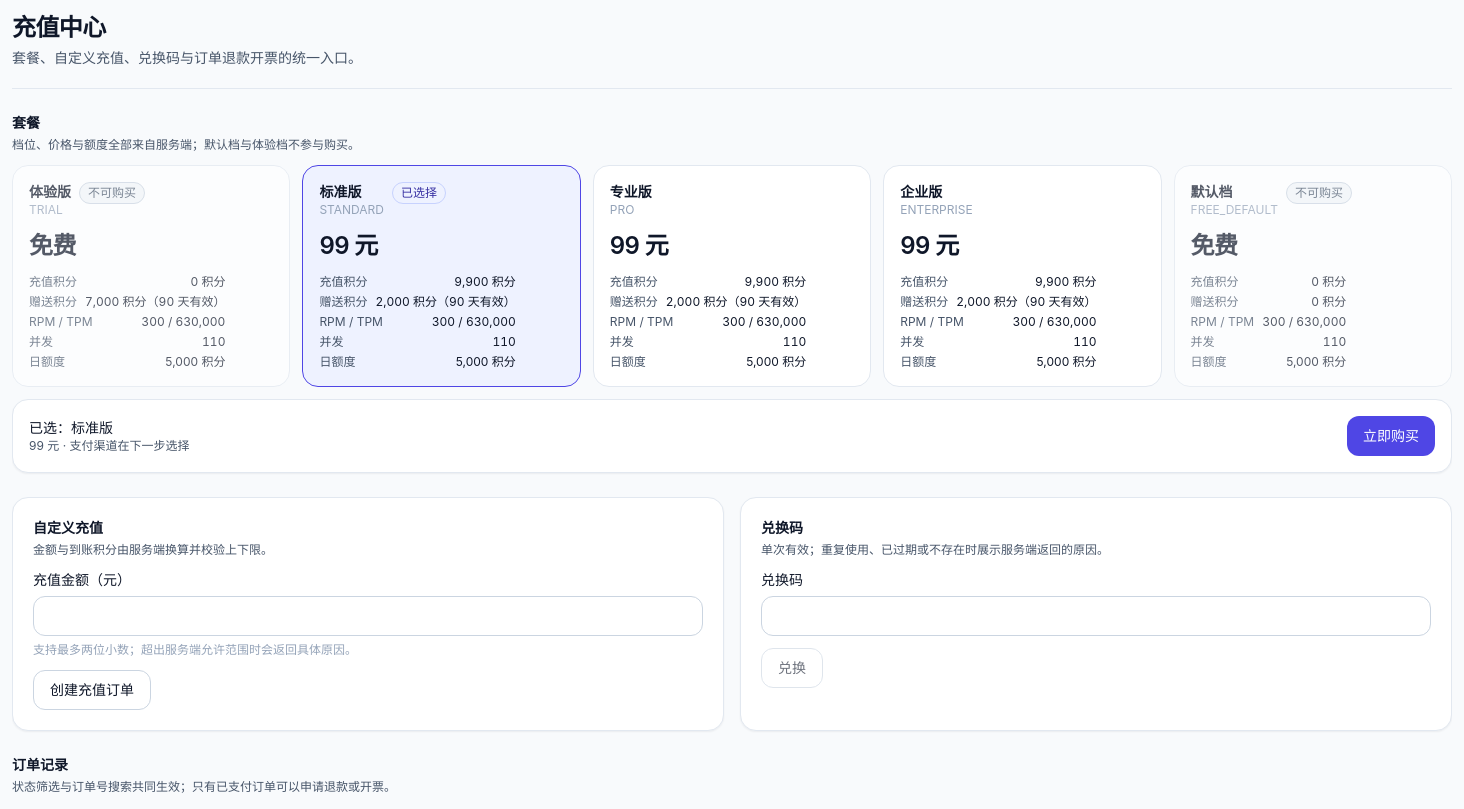
Scenario: RechargePage › F10-3: a re-used redemption code shows the backend reason and hint
Step 1. Type "ABC123XYZ" into the field labelled "兑换码" → point(1096, 616), box [761,596,1431,636]
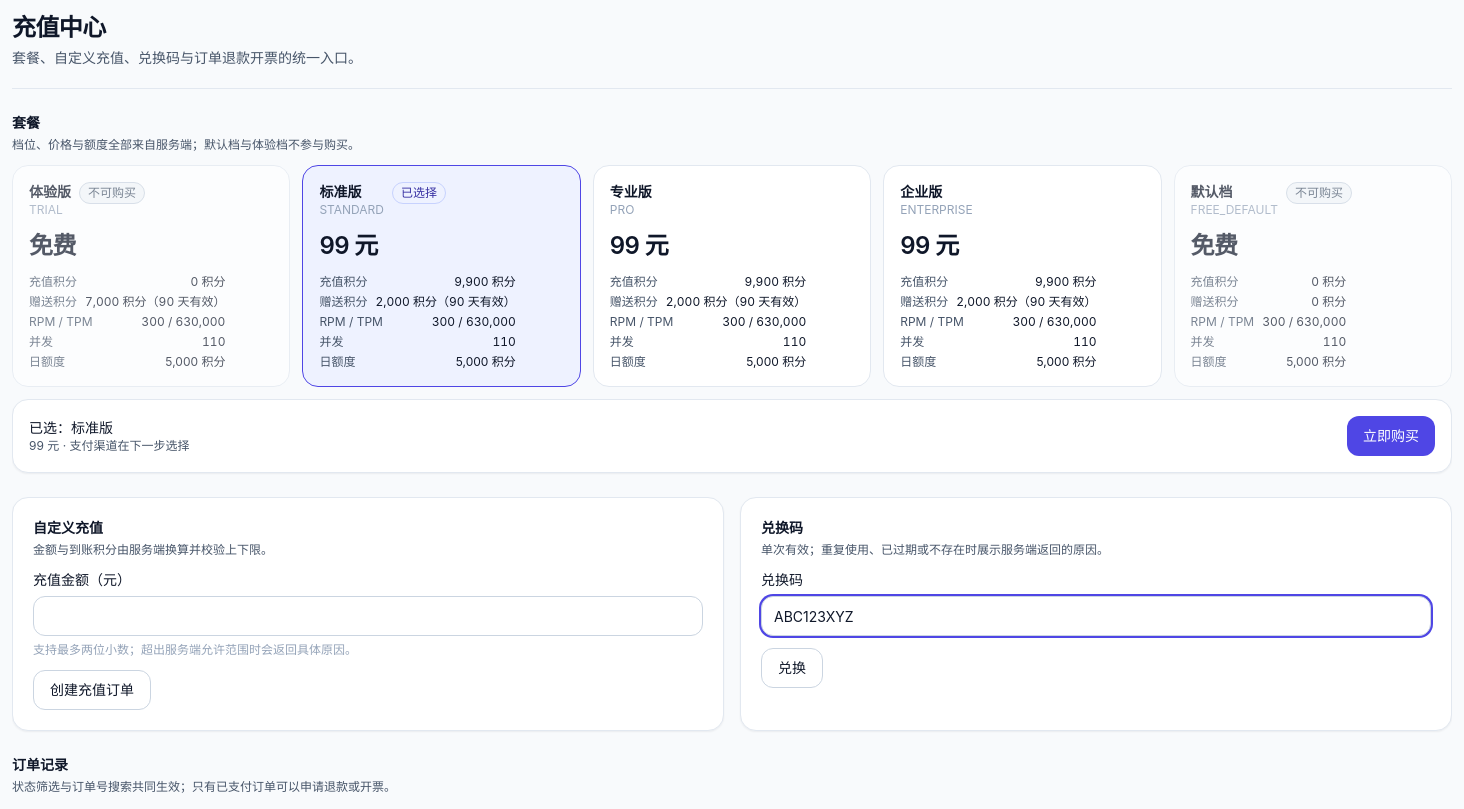
Step 2. Click the button "兑换" → point(792, 668), box [761,648,823,688]
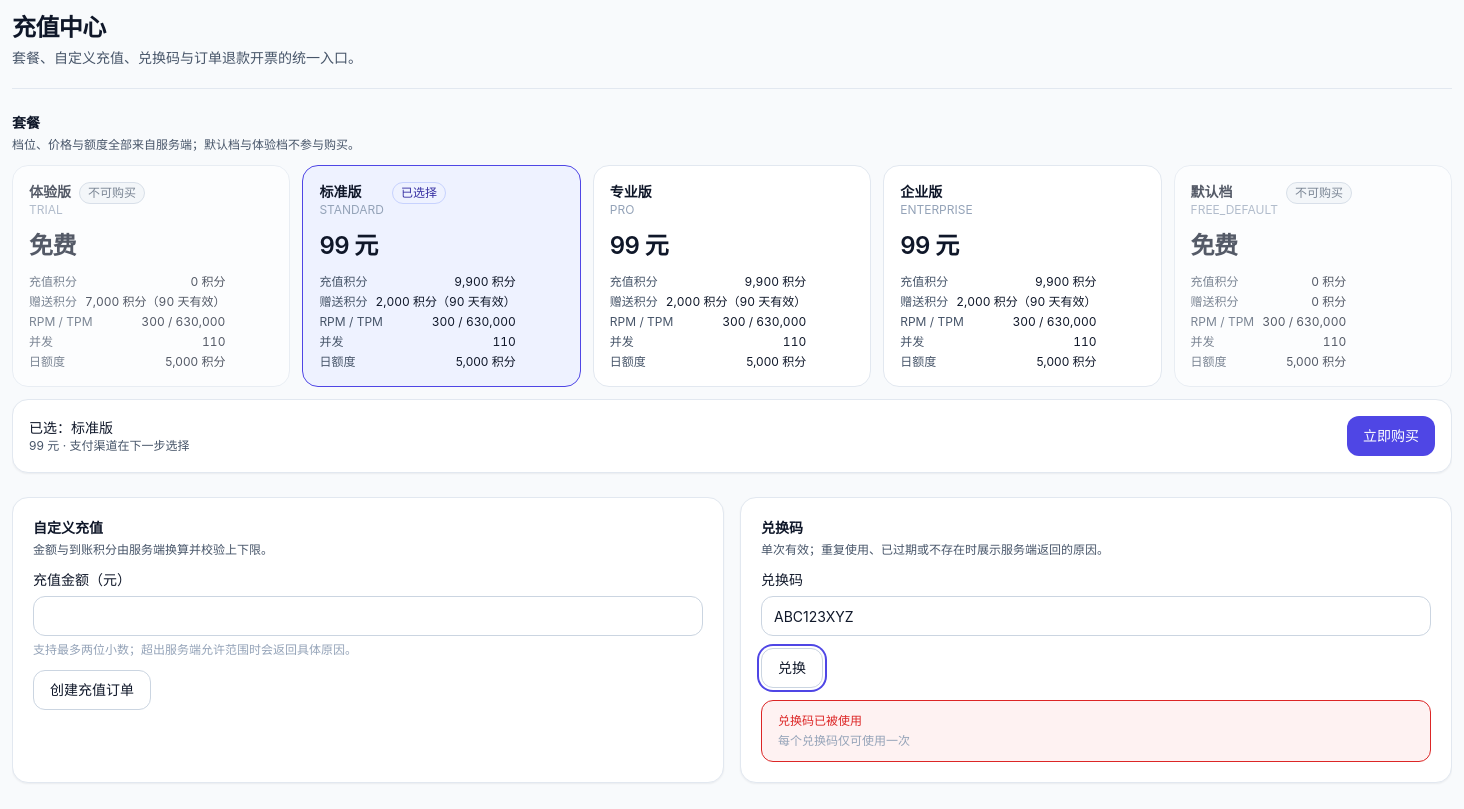
Result: the text "兑换码已被使用" is shown at [778,713,862,728]
Result: the text "每个兑换码仅可使用一次" is shown at [778,733,910,748]
